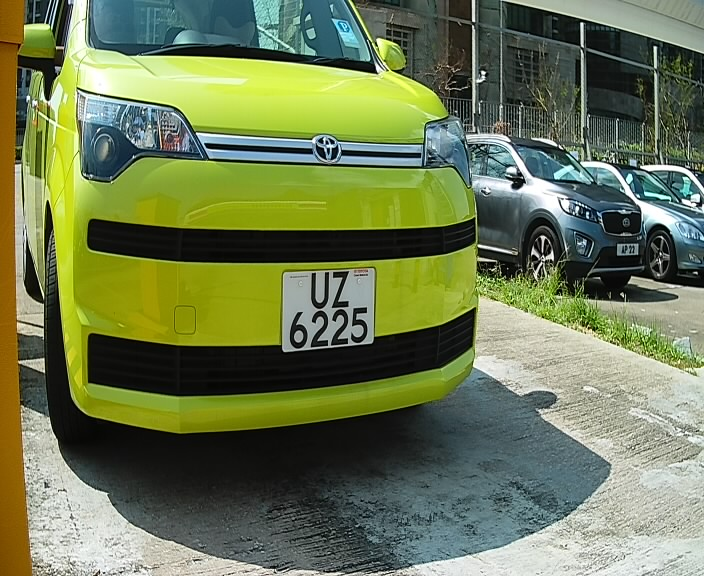Car: (4, 2, 510, 477)
License Plate: (277, 262, 386, 360)
